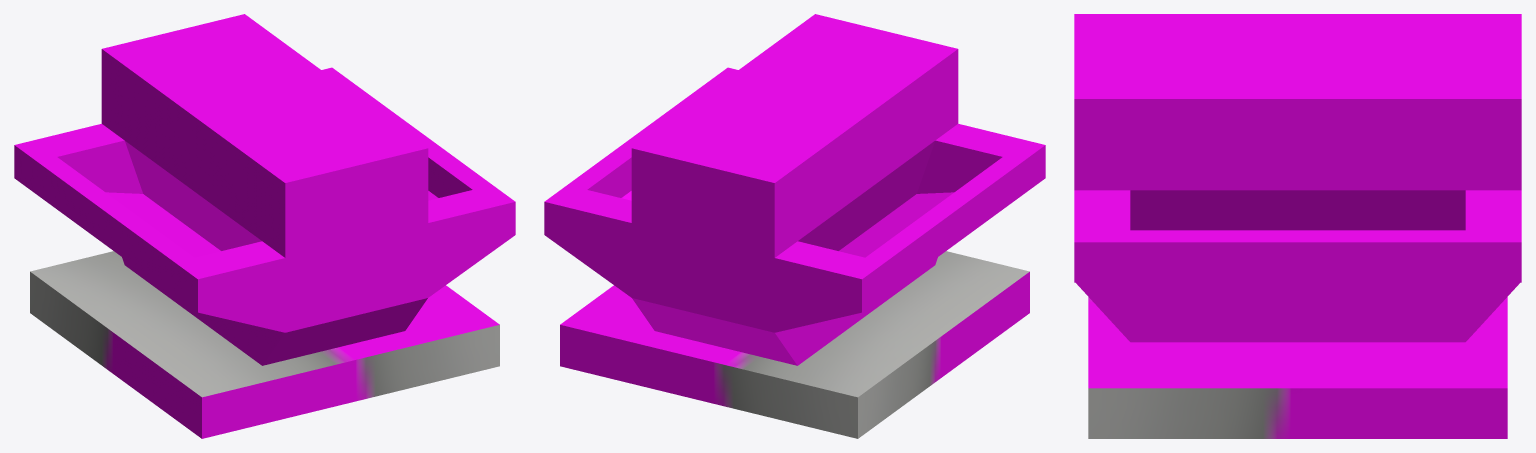
The model's file is mixer.obj.
3 renders of one model, left to right at view 1: azimuth 30°, elevation 25°; view 2: azimuth 150°, elevation 25°; view 3: azimuth 270°, elevation 25°, orthographic. The views are drawn at different scales.
Visible parts, largest first — view 1: Mixer_mxmdl, Baseplate_pmdl, Pipe_Ends_mxmdl.001; view 2: Mixer_mxmdl, Baseplate_pmdl, Pipe_Ends_mxmdl.001; view 3: Mixer_mxmdl, Baseplate_pmdl, Pipe_Ends_mxmdl.001.
Part boxes in pixels (box(x1,y1,x2,y2)): Mixer_mxmdl: box(14, 31, 515, 365); Baseplate_pmdl: box(30, 251, 499, 438); Pipe_Ends_mxmdl.001: box(101, 14, 428, 332); Mixer_mxmdl: box(544, 31, 1045, 365); Baseplate_pmdl: box(560, 251, 1029, 438); Pipe_Ends_mxmdl.001: box(631, 14, 958, 332); Mixer_mxmdl: box(1074, 14, 1521, 342); Baseplate_pmdl: box(1088, 297, 1507, 438); Pipe_Ends_mxmdl.001: box(1074, 14, 1521, 190).
Bounding box in the file's own units: 1 × 0.725 × 1.
